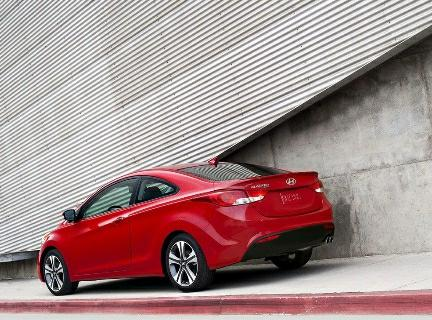car: (18, 158, 342, 292)
